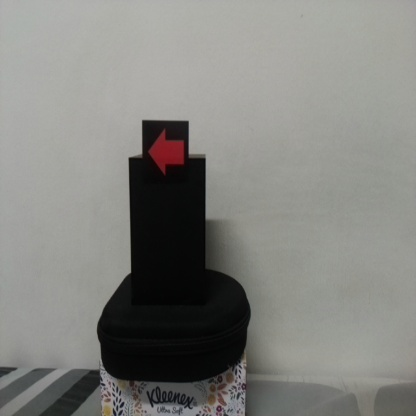id_4: (143, 122, 190, 182)
